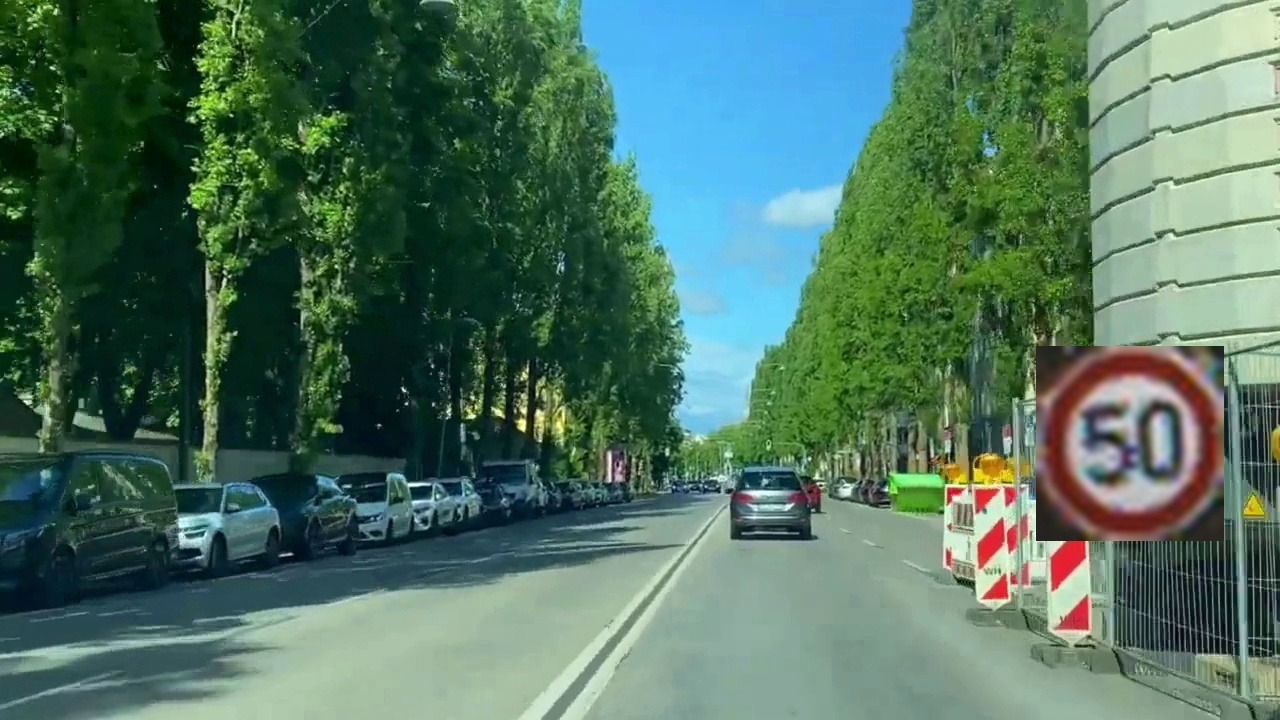Speed 50: (1036, 346, 1224, 541)
